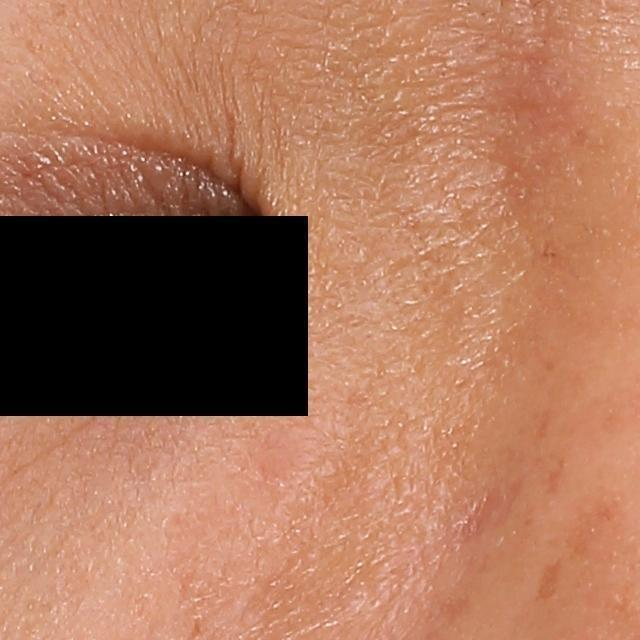melasma: (568, 493, 625, 566), (533, 556, 561, 605)
